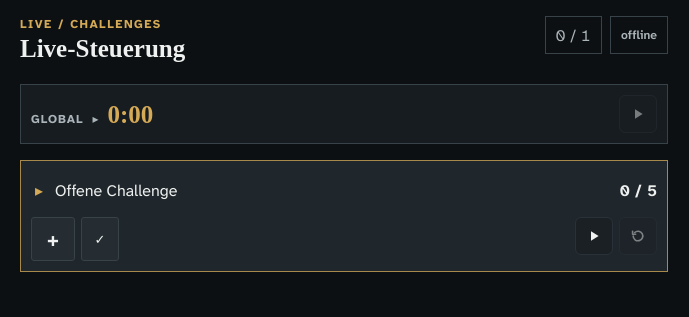
Live-Bedienseite › führt den streak-Bestwert auch in der optimistischen Live-Zeile mit
The width and height of the screenshot is (689, 317).
Check: the text "0 / 5" is shown, box [620, 180, 657, 200]
Check: the text "Best" is not shown
Click the button named "Offene Challenge um 1 erhöhen" at (53, 239), box [31, 217, 75, 261]
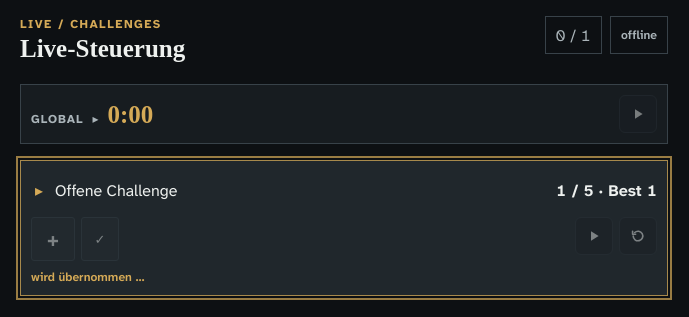
Check: the text "1 / 5 · Best 1" is shown, box [556, 180, 657, 200]
